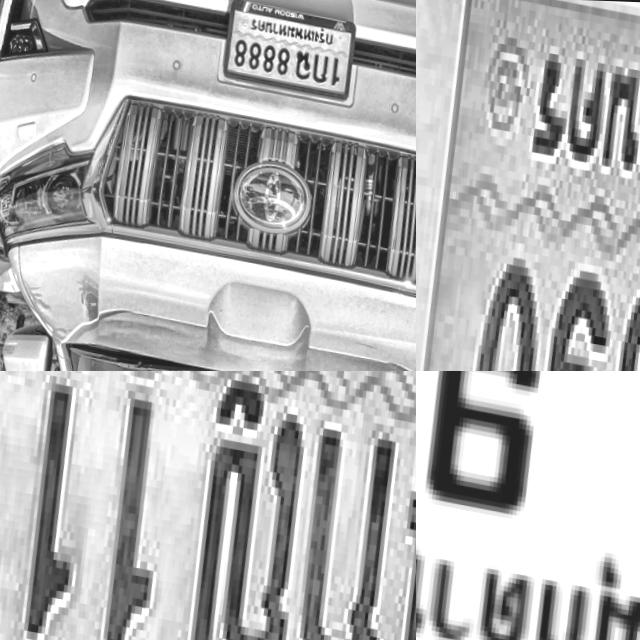license-plate: (0, 371, 416, 640), (416, 0, 640, 371), (416, 371, 640, 640), (212, 0, 361, 105)
